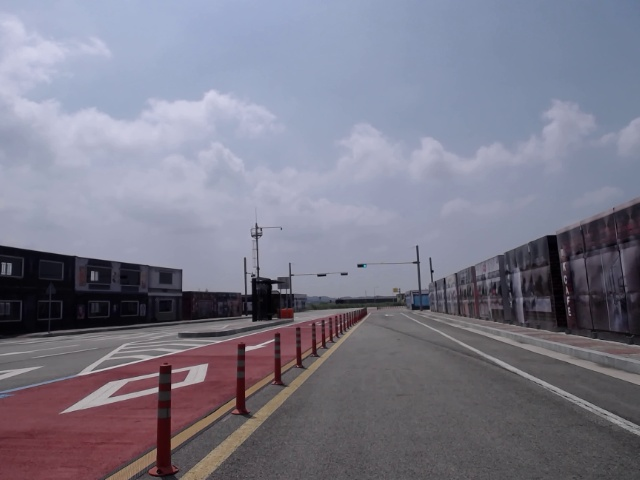green_3: (357, 263, 368, 268)
